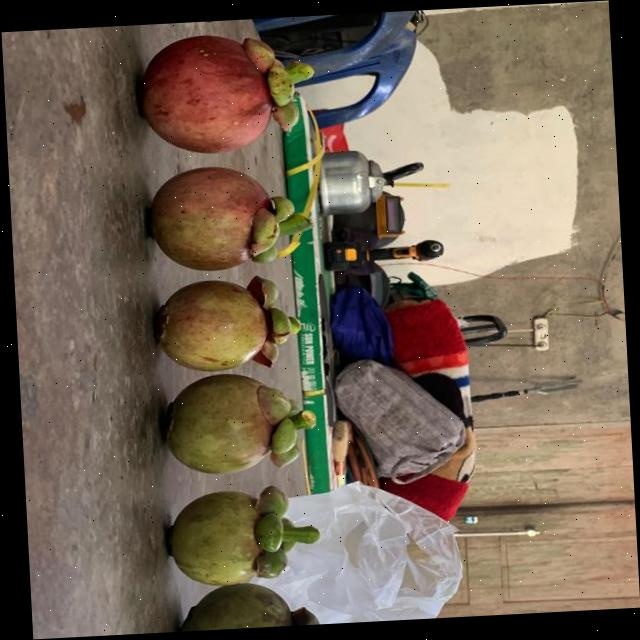mangosteen: (104, 14, 346, 198), (134, 456, 336, 625), (111, 154, 314, 304), (132, 265, 312, 404), (147, 359, 323, 498), (130, 558, 356, 634)
